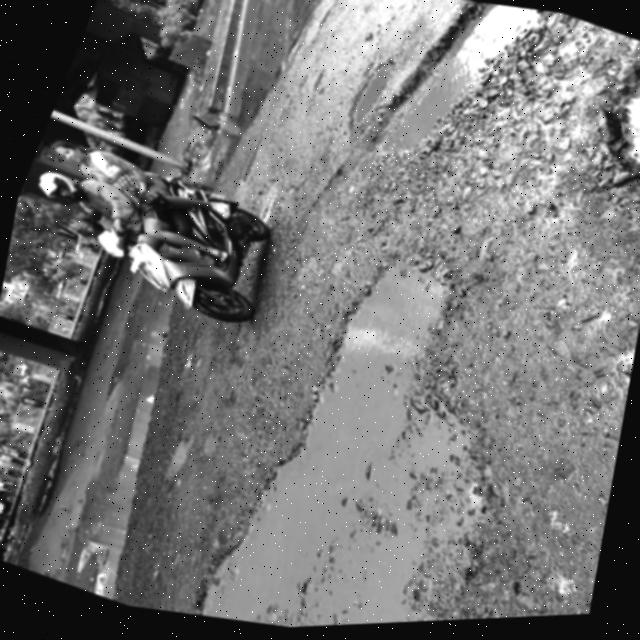Pothole: (195, 235, 534, 633), (362, 0, 538, 205), (540, 28, 640, 235), (333, 41, 396, 137)
